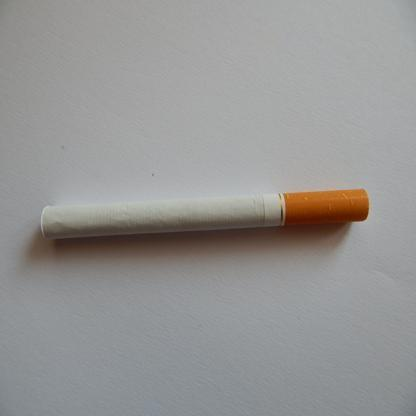trash: (34, 182, 375, 244)
